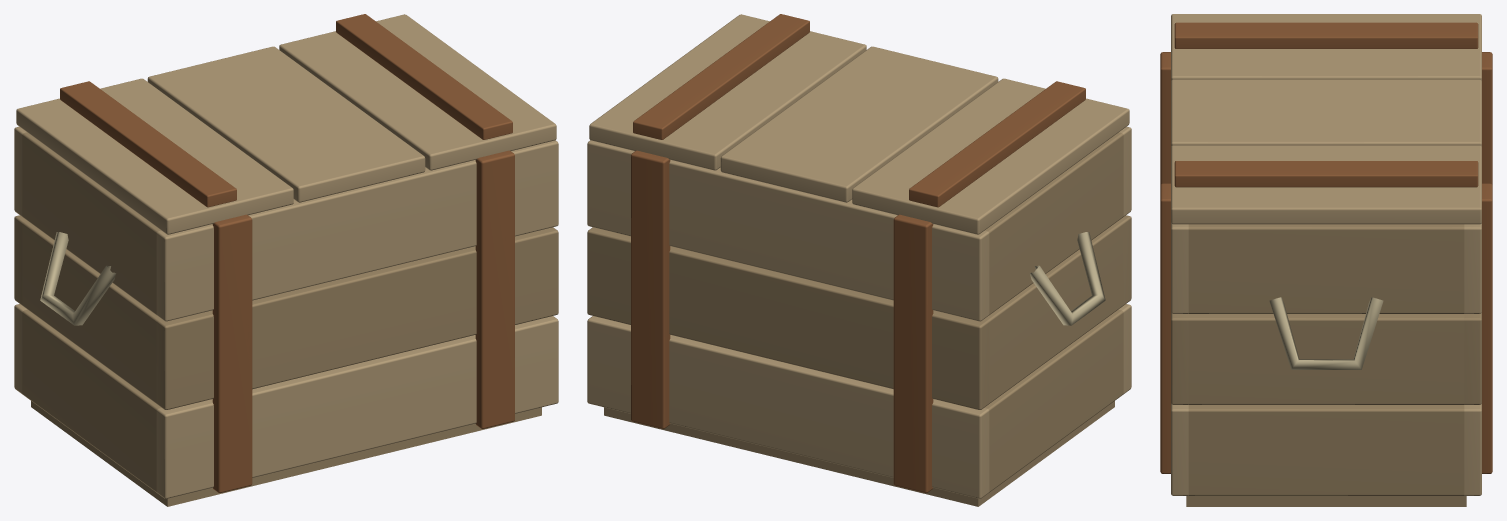
The model's file is timber_supply_case_1916_web.glb.
The picture shows the model from 3 angles, left to right: view 1: azimuth 30°, elevation 25°; view 2: azimuth 150°, elevation 25°; view 3: azimuth 270°, elevation 25°; orthographic projection. The views are drawn at different scales.
Visible parts, largest first — view 1: Pale_Timber, Aged_Timber, Walnut_Wood, Canvas_Linen; view 2: Pale_Timber, Aged_Timber, Walnut_Wood, Canvas_Linen; view 3: Aged_Timber, Pale_Timber, Walnut_Wood, Canvas_Linen.
Boxes of the visible parts, <box> form: Pale_Timber: <box>14,14,558,498</box>; Aged_Timber: <box>14,132,558,506</box>; Walnut_Wood: <box>60,14,514,492</box>; Canvas_Linen: <box>40,232,116,325</box>; Pale_Timber: <box>587,14,1131,498</box>; Aged_Timber: <box>587,132,1131,506</box>; Walnut_Wood: <box>631,14,1085,492</box>; Canvas_Linen: <box>1029,232,1105,325</box>; Aged_Timber: <box>1171,224,1481,506</box>; Pale_Timber: <box>1171,14,1481,495</box>; Walnut_Wood: <box>1160,22,1492,473</box>; Canvas_Linen: <box>1269,297,1383,369</box>.
Size of the model in its own units: 0.6975 by 0.446 by 0.427.
